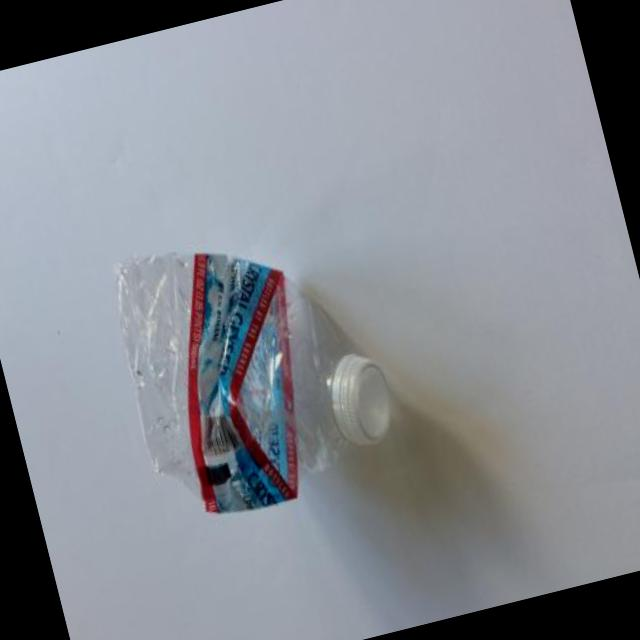Recycle: (101, 204, 409, 532)
